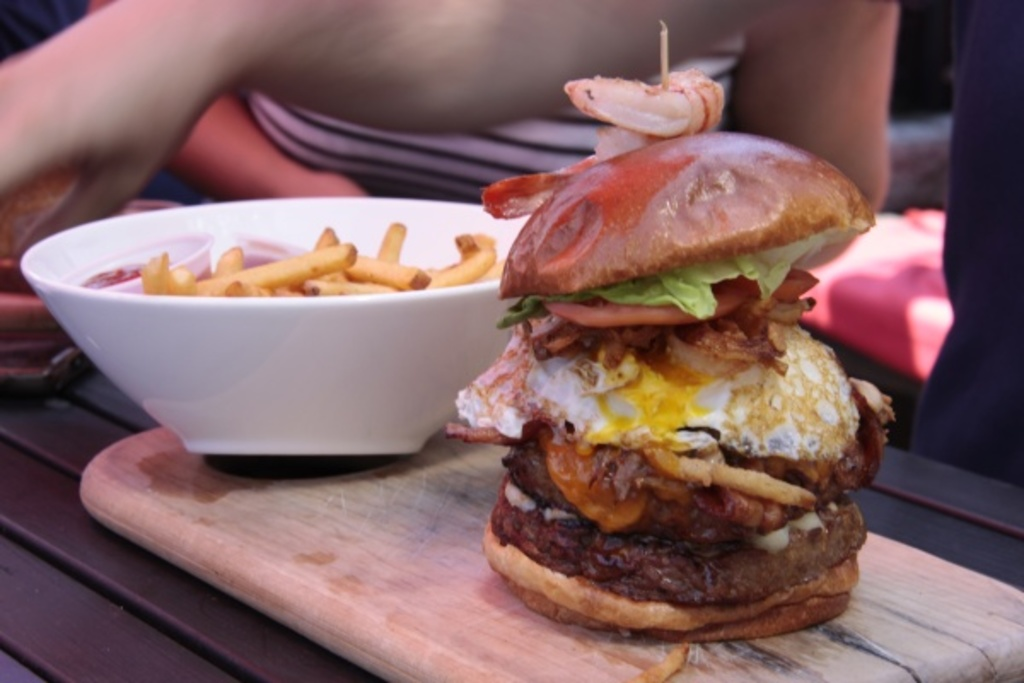Hamburger: (443, 68, 896, 647)
